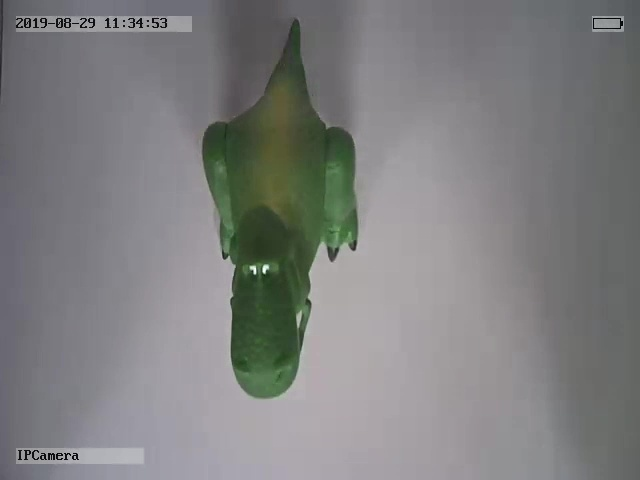rex: (203, 16, 362, 400)
